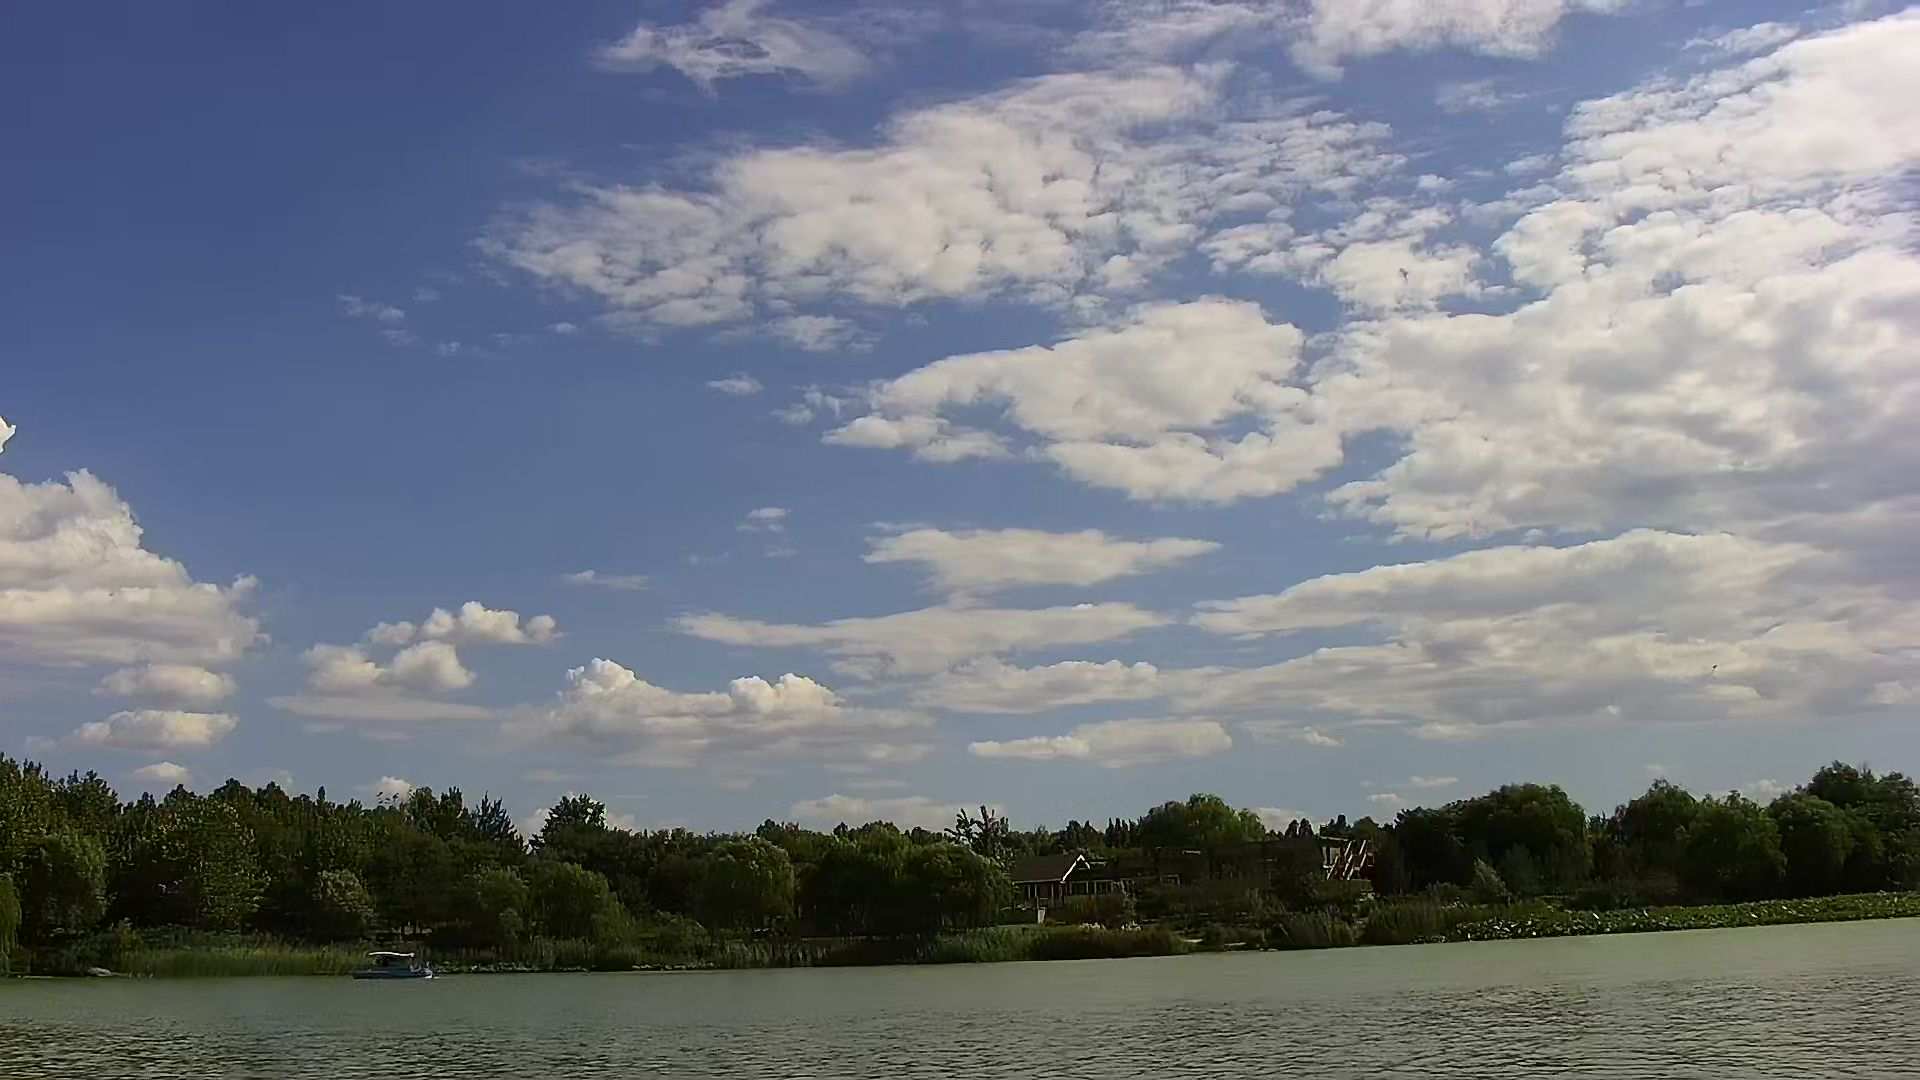boat: (348, 948, 438, 992)
